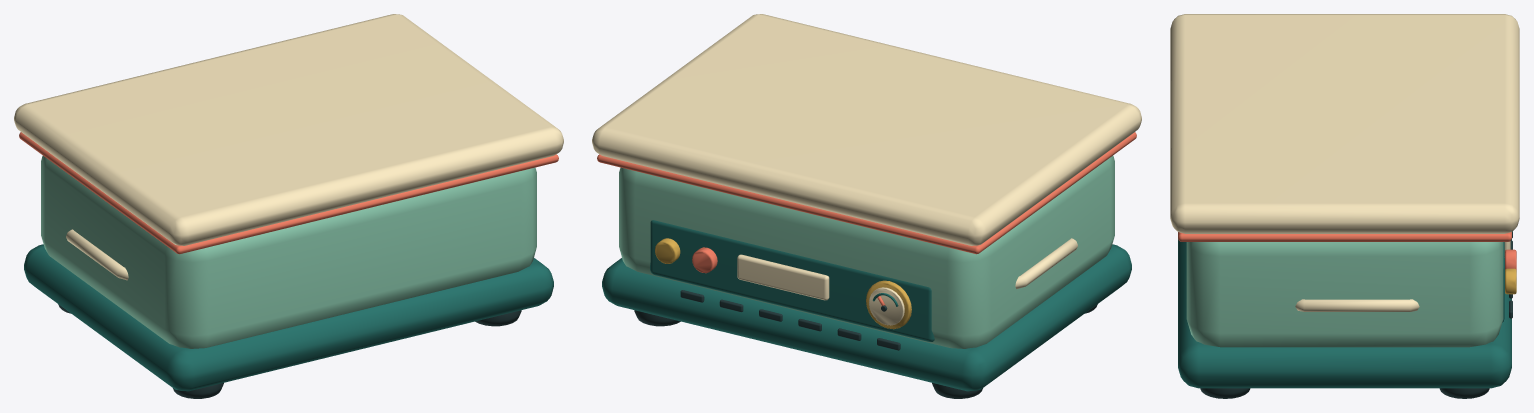
File: IncubatorBase.fbx
3 views of the same model, side by side, from view 1: azimuth 30°, elevation 25°; view 2: azimuth 150°, elevation 25°; view 3: azimuth 270°, elevation 25° (orthographic). The views are drawn at different scales.
Parts seen in each view (by area): view 1: IncubatorBase_Visual; view 2: IncubatorBase_Visual; view 3: IncubatorBase_Visual.
Part boxes in pixels (x1,y1,x2,y2): IncubatorBase_Visual: [14, 14, 563, 398]; IncubatorBase_Visual: [592, 14, 1141, 398]; IncubatorBase_Visual: [1170, 14, 1519, 398].
Bounding box in the file's own units: 1.9 × 0.9 × 1.4.
